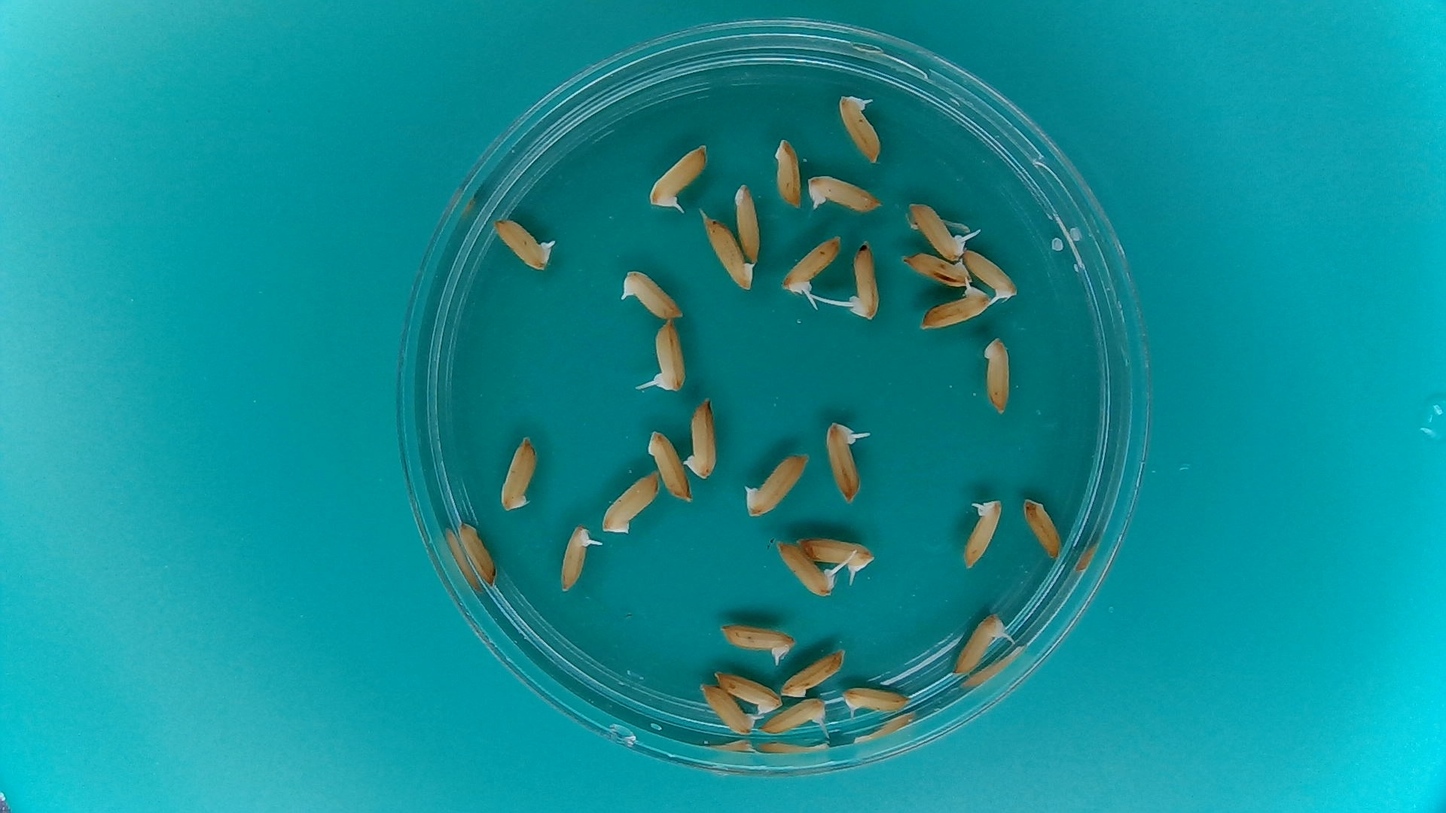no: (601, 465, 664, 537), (702, 215, 755, 292), (746, 452, 806, 520), (644, 425, 694, 504), (497, 429, 541, 515), (708, 667, 784, 716), (683, 393, 723, 484), (778, 648, 847, 699), (1017, 494, 1066, 561), (979, 331, 1016, 418), (456, 519, 499, 589), (896, 248, 972, 287), (732, 178, 762, 265), (772, 133, 805, 210)
yes: (948, 610, 1010, 681), (490, 213, 562, 273), (712, 618, 800, 667), (781, 234, 842, 297), (907, 200, 970, 260), (694, 678, 758, 737), (648, 144, 706, 209), (802, 171, 885, 216), (621, 269, 687, 321), (824, 421, 865, 504), (758, 694, 834, 738), (961, 492, 1005, 567), (775, 542, 832, 598), (964, 246, 1020, 302), (924, 286, 991, 330), (650, 318, 690, 391), (838, 681, 915, 718), (837, 94, 880, 160), (793, 538, 876, 572), (555, 522, 592, 595), (849, 242, 878, 320)
